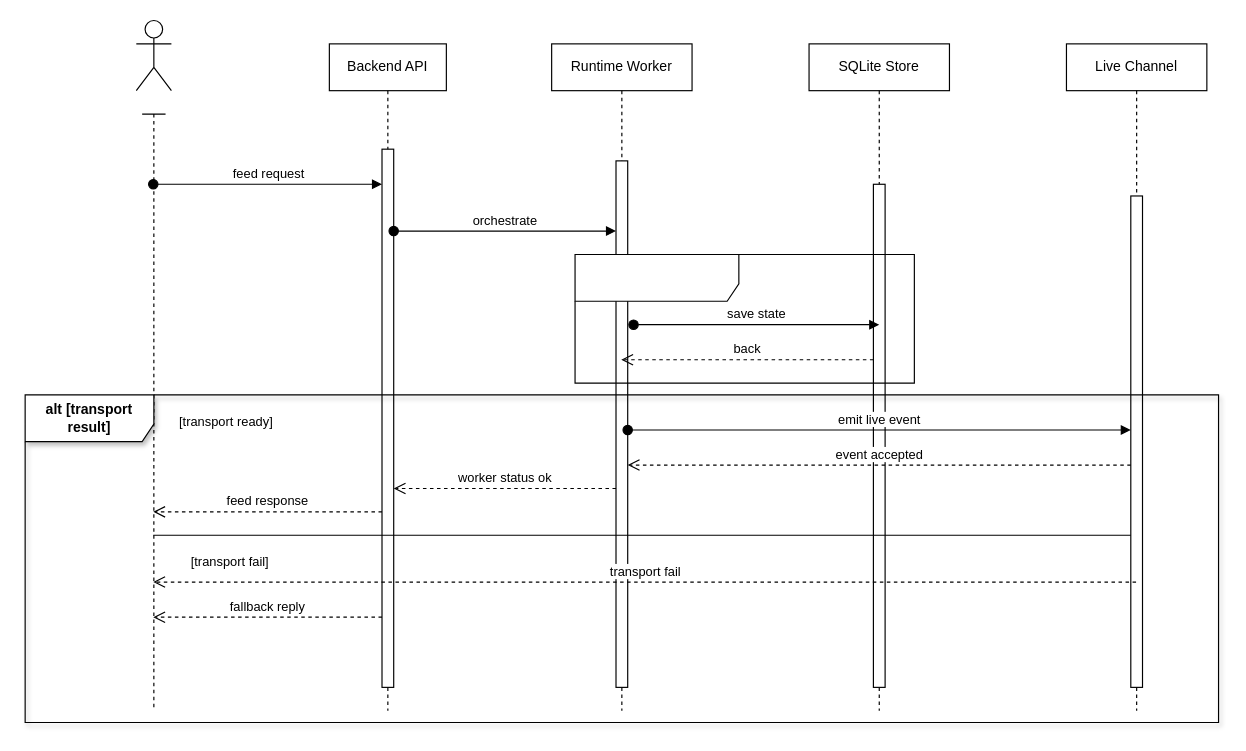
The diagram is 1246 pixels wide and 751 high, and some of its shapes have lost their labels. The shapes that lost their labels are listed below. From the top down, each one's centre as x and y in pixels, then its label:
At point (153, 55): "User".
At point (744, 318): "opt [state persistence enabled]".
